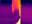Hotspot: (15, 19, 20, 23)
